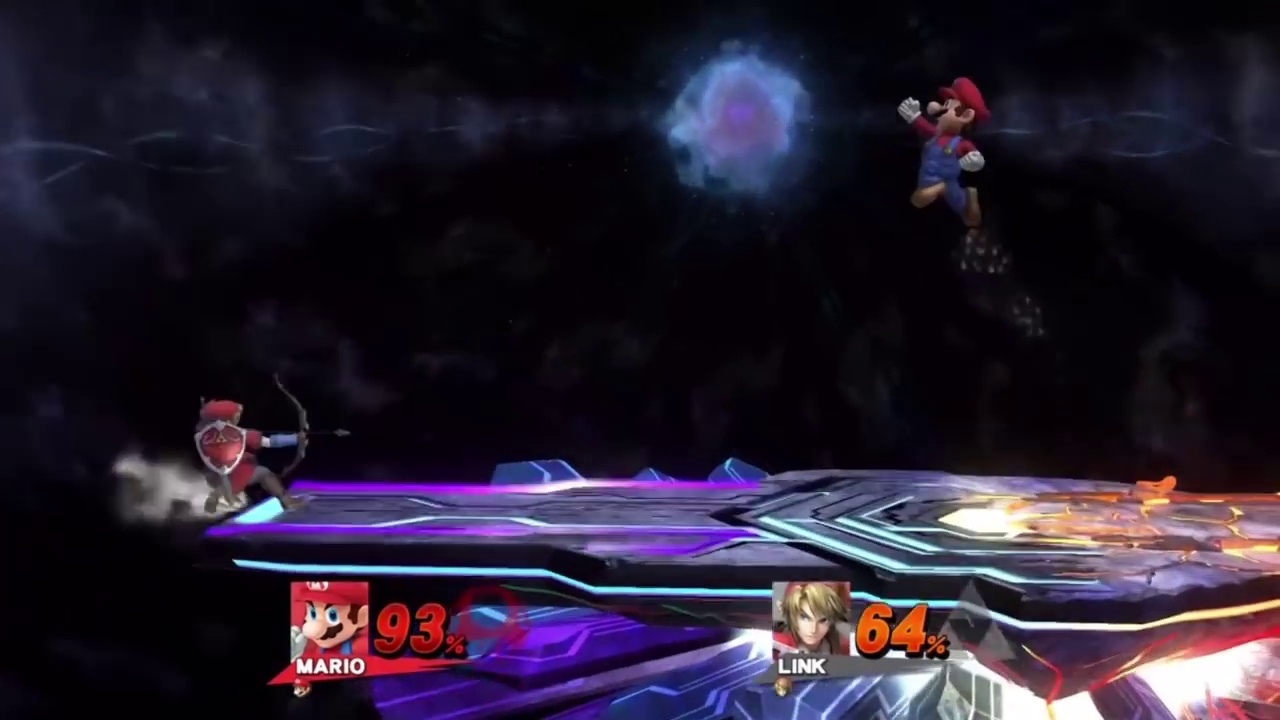Mario: (897, 72, 986, 230)
